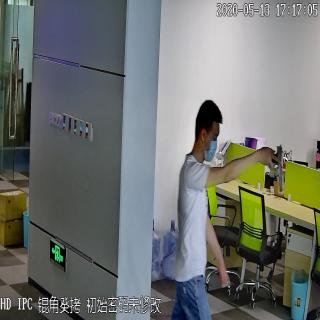gun: (261, 140, 283, 193)
